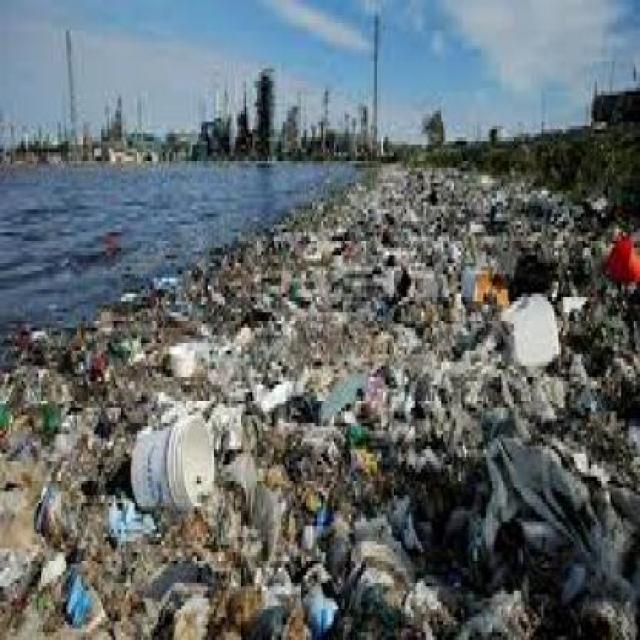garbage: (6, 317, 638, 630), (146, 237, 638, 313), (306, 186, 604, 232), (357, 152, 481, 190)
